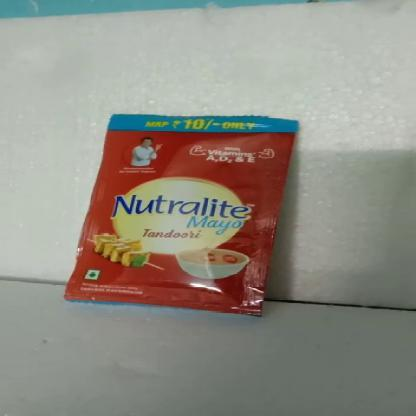Nutralite TANDOORI MAYO 30g: (110, 115, 279, 297)
